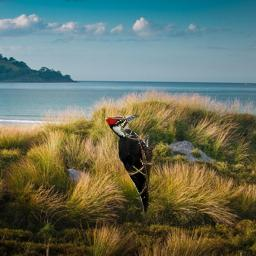Woodpecker: (105, 113, 155, 220)
